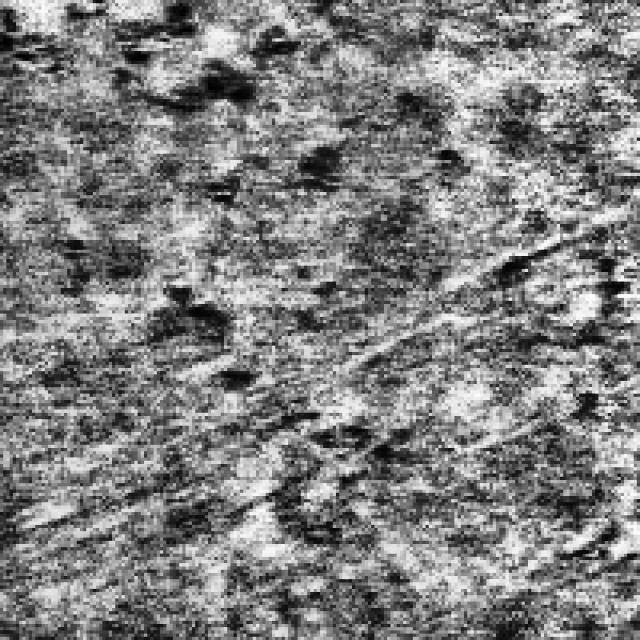Crazing: (220, 387, 404, 547), (102, 0, 320, 122)
